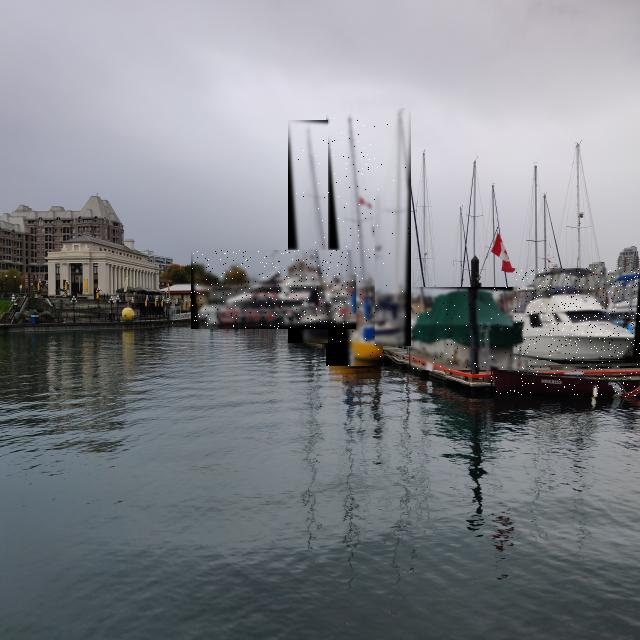boat: (326, 114, 383, 366), (191, 250, 356, 329), (515, 268, 640, 360), (410, 287, 530, 370), (288, 120, 328, 343), (375, 108, 411, 346)
skiff: (491, 357, 640, 397)
